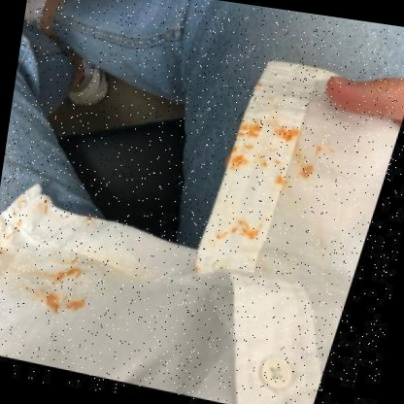kimchi: (232, 115, 302, 190), (213, 218, 264, 249), (38, 290, 88, 319), (42, 261, 81, 289), (0, 217, 22, 243), (296, 160, 319, 182), (310, 141, 332, 161), (67, 252, 85, 270), (33, 202, 51, 218), (14, 194, 28, 207), (190, 261, 203, 274), (80, 215, 94, 225), (63, 213, 74, 222), (0, 237, 4, 255)
